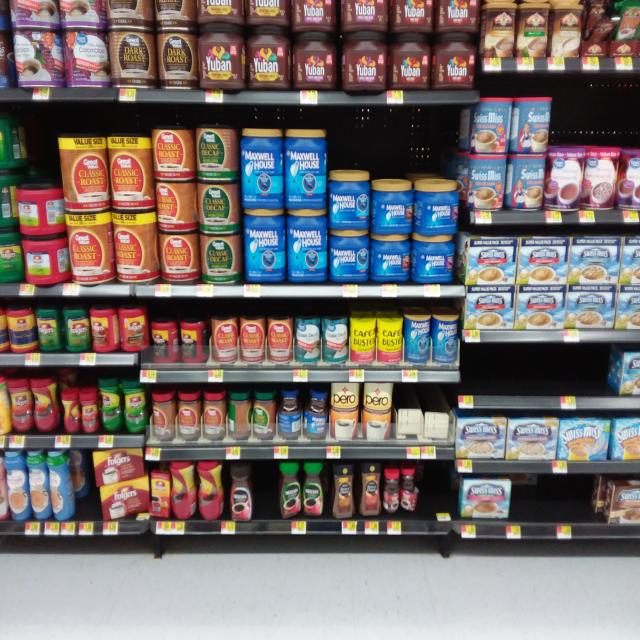unorganised: (335, 463, 419, 522), (89, 448, 147, 523), (276, 461, 326, 521), (58, 382, 99, 436), (29, 377, 58, 439), (101, 381, 122, 438), (280, 391, 302, 443), (228, 395, 253, 440)
